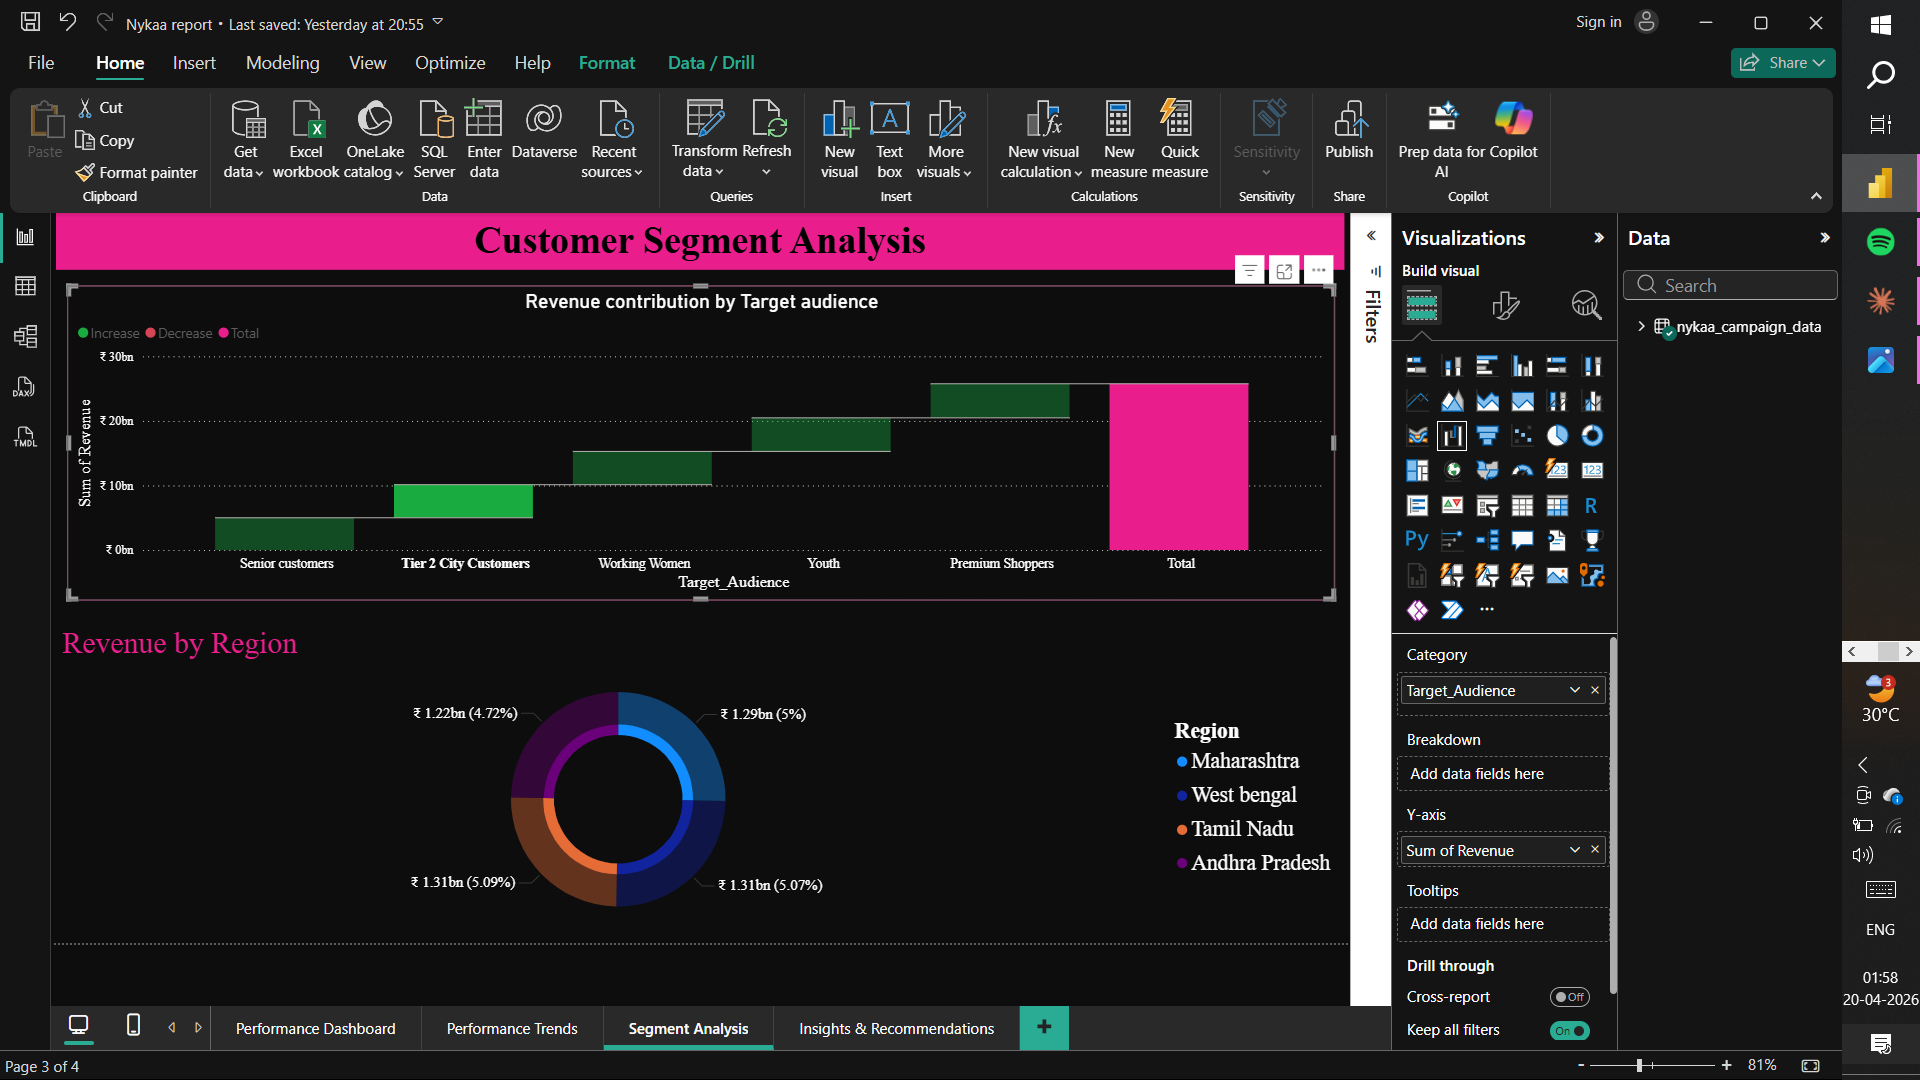

The page's visual inventory and layout, read from the dashboard file:
{"tool":"powerbi","page":{"name":"Segment Analysis","canvas":[1280,720],"ordinal":2},"visuals":[{"type":"textbox","box":[5.3,0,1269.4,55.8],"z":0},{"type":"waterfallChart","title":"Revenue contribution by Target audience","fields":{"Category":["nykaa_campaign_data.Target_Audience"],"Y":["Sum(nykaa_campaign_data.Revenue)"]},"box":[16,71.4,1249,310.4],"z":1000},{"type":"donutChart","title":"Revenue by Region","fields":{"Category":["nykaa_campaign_data.Region"],"Y":["Sum(nykaa_campaign_data.Revenue)"]},"box":[6,406,1269,310],"z":2000}]}

Visuals, with their boxes on the page's 1280x720 design canvas (x1, y1, x2, y2). These are canvas units, not pixel positions in the 1920x1080 screenshot, which may show the page scaled, cropped or inside an application window:
textbox: {"x1": 5, "y1": 0, "x2": 1275, "y2": 56}
"Revenue contribution by Target audience" waterfallChart: {"x1": 16, "y1": 71, "x2": 1265, "y2": 382}
"Revenue by Region" donutChart: {"x1": 6, "y1": 406, "x2": 1275, "y2": 716}
